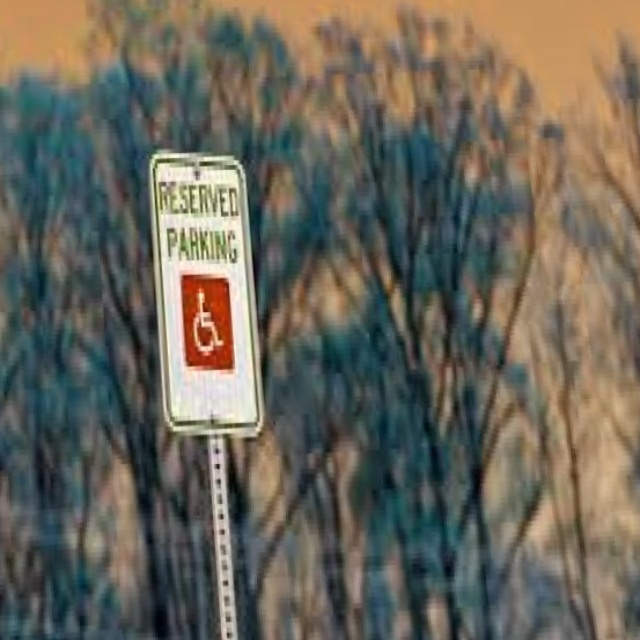ISA: (187, 287, 226, 359)
